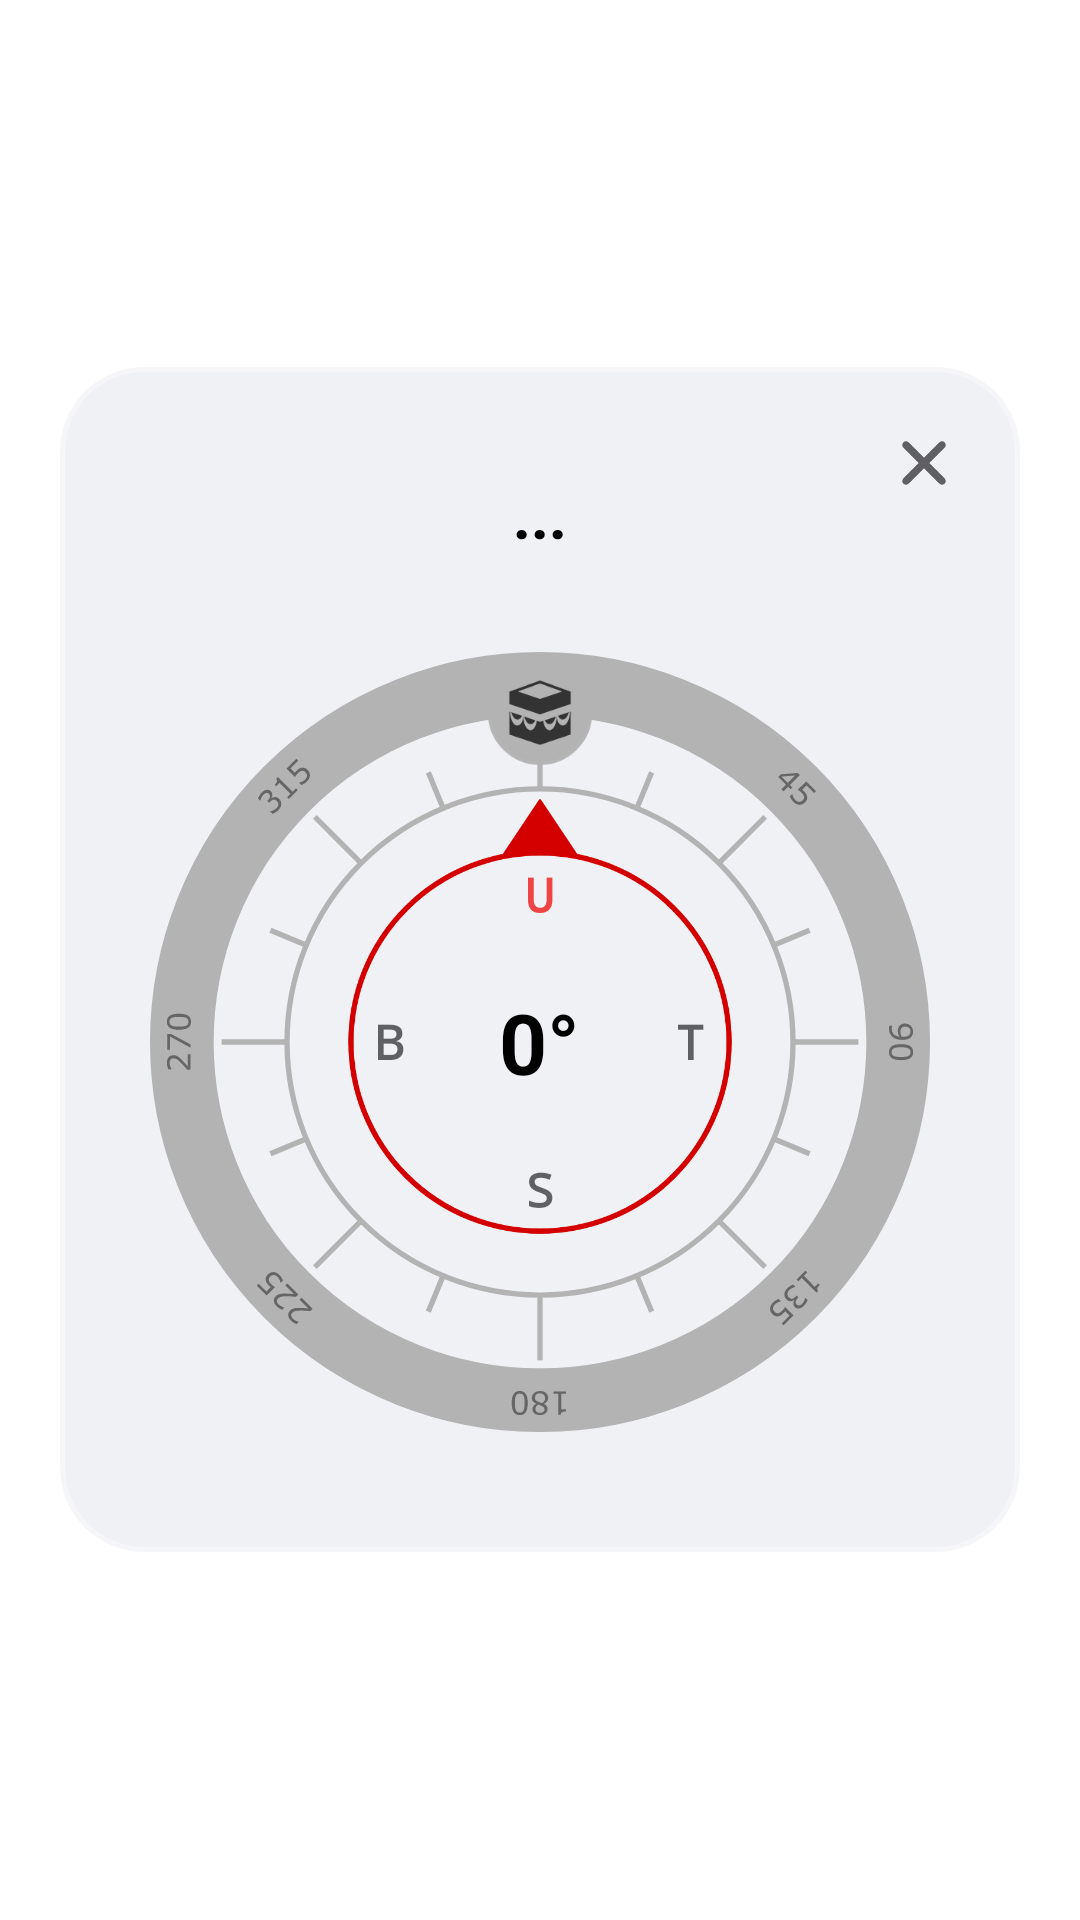

Screen size 1080 × 1920. Icon name, then its center in pixels as [x,y]:
Tutup Kompas: [924,463]
